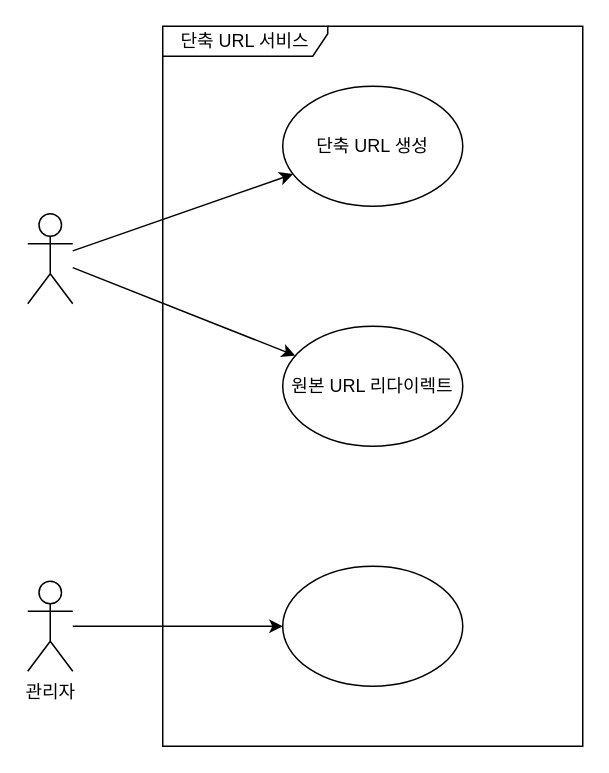
This 609x773 diagram has some shape labels left out. The box of each missing label's shape, as (x1, y1, x2, y2) in pixels:
단축 URL 목록 조회: (281, 565, 463, 686)
사용자: (26, 212, 73, 304)
